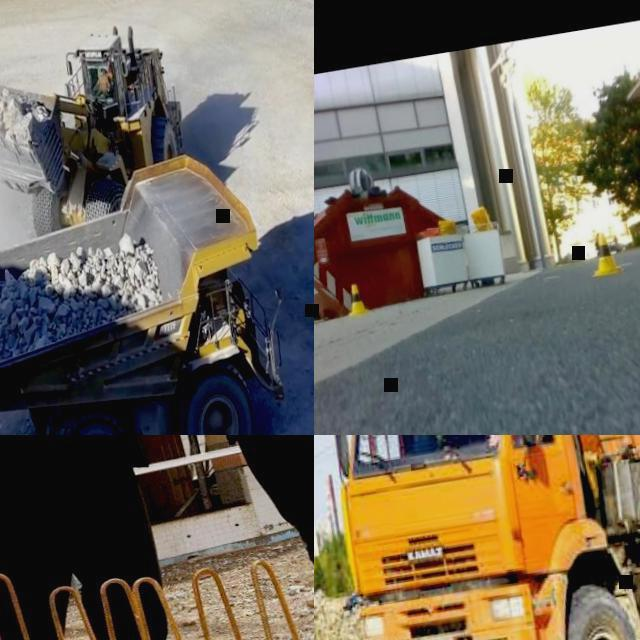machinery: (0, 136, 314, 435), (314, 435, 640, 640), (0, 8, 205, 273)
no_helmet: (100, 66, 106, 71)
no_vest: (100, 74, 108, 90)
person: (0, 435, 274, 640), (138, 435, 314, 640), (485, 435, 529, 449), (96, 64, 112, 94)
safety_cone: (588, 232, 626, 276), (346, 282, 370, 316)
vehicle: (342, 592, 366, 610)
